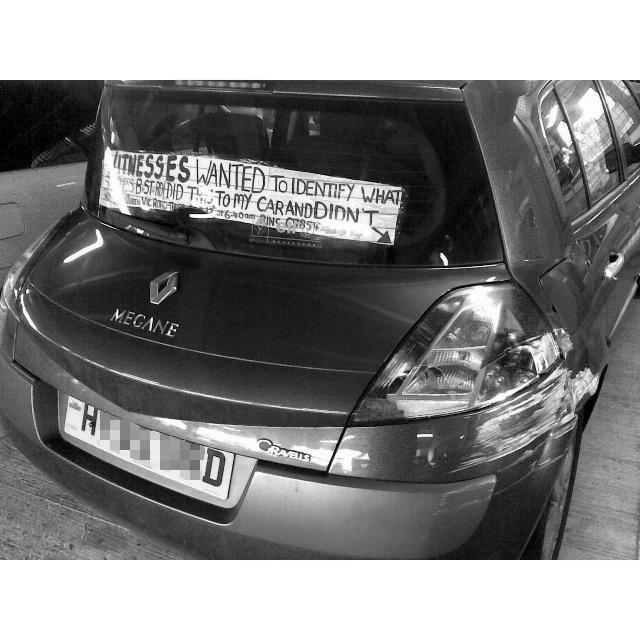quaterpanel-dent: (383, 325, 602, 540)
